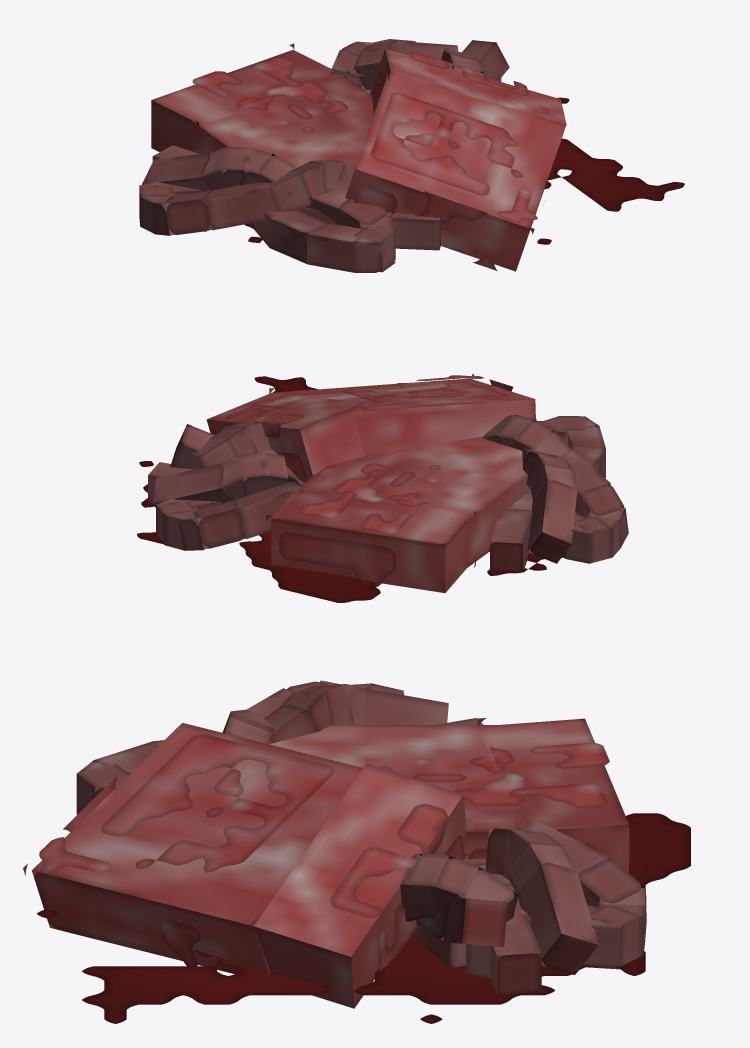
The model's file is pile_raw_guts_meat.obj.
The picture shows the model from 3 angles, top to bottom: view 1: azimuth 30°, elevation 25°; view 2: azimuth 150°, elevation 25°; view 3: azimuth 270°, elevation 25°; orthographic projection. The views are drawn at different scales.
Parts seen in each view (by area): view 1: pile_raw_guts_meat; view 2: pile_raw_guts_meat; view 3: pile_raw_guts_meat.
Boxes of the visible parts, left/top/right/bottom form: pile_raw_guts_meat: left=139, top=39, right=684, bottom=272; pile_raw_guts_meat: left=137, top=374, right=628, bottom=602; pile_raw_guts_meat: left=23, top=680, right=690, bottom=1023.
Bounding box in the file's own units: 1.27 × 0.3252 × 1.24.
